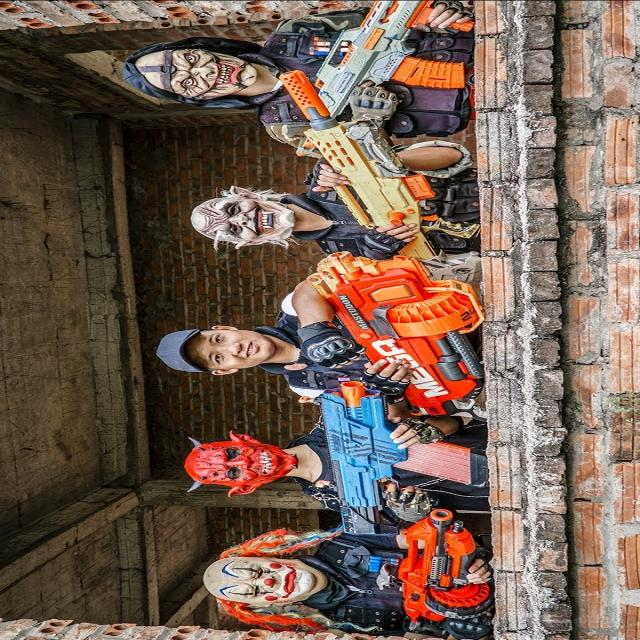Nerf gun: (270, 68, 498, 266), (313, 249, 494, 419), (318, 376, 498, 540), (297, 1, 478, 164), (391, 506, 496, 634)
